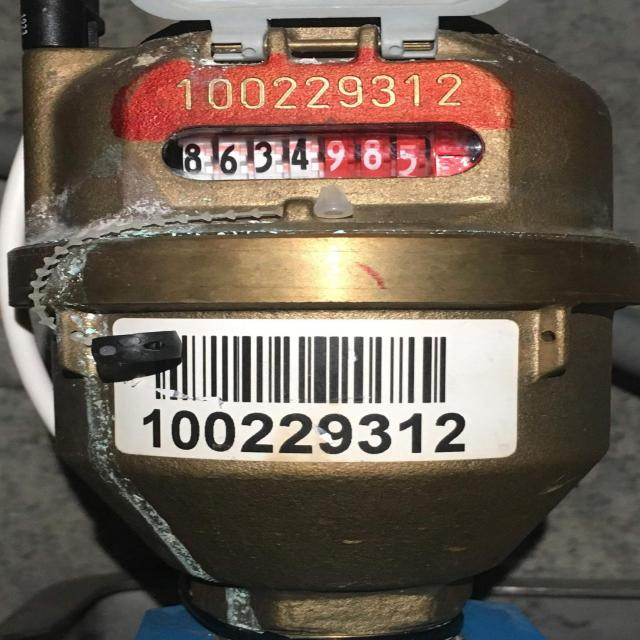gaz_meter: (26, 22, 622, 244)
indication: (172, 129, 434, 181)
